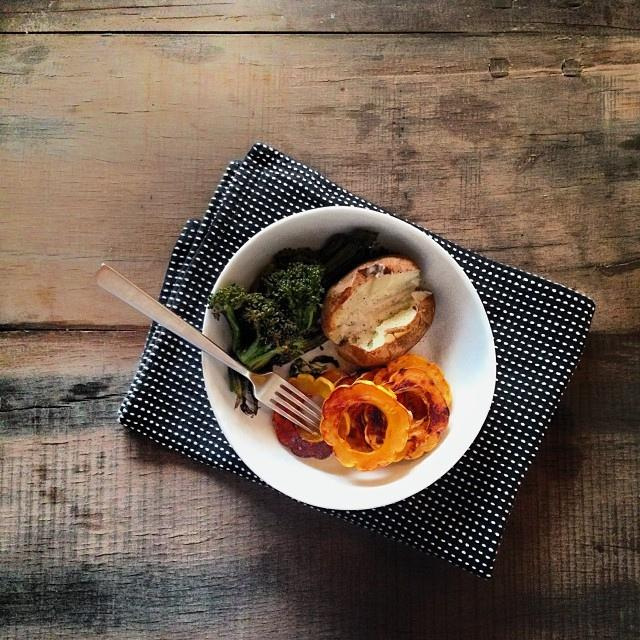broccoli: (210, 283, 306, 372), (272, 278, 326, 334), (261, 262, 329, 300)
potato: (322, 257, 436, 367)
